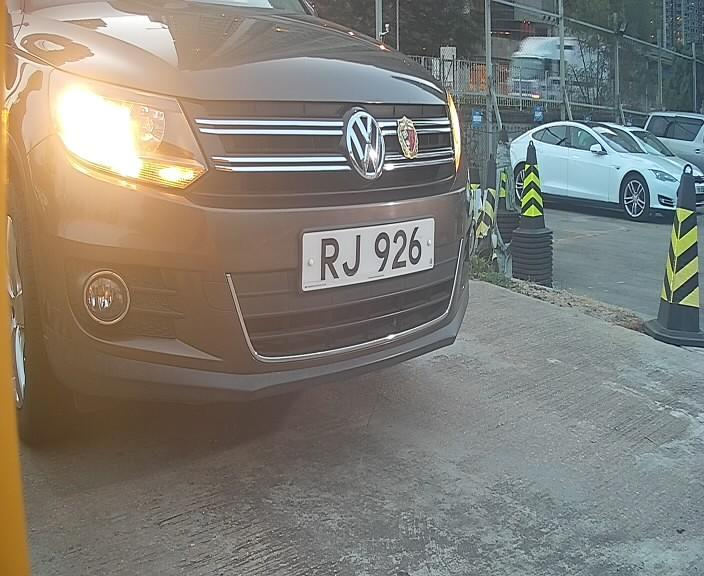License Plate: (287, 206, 441, 296)
